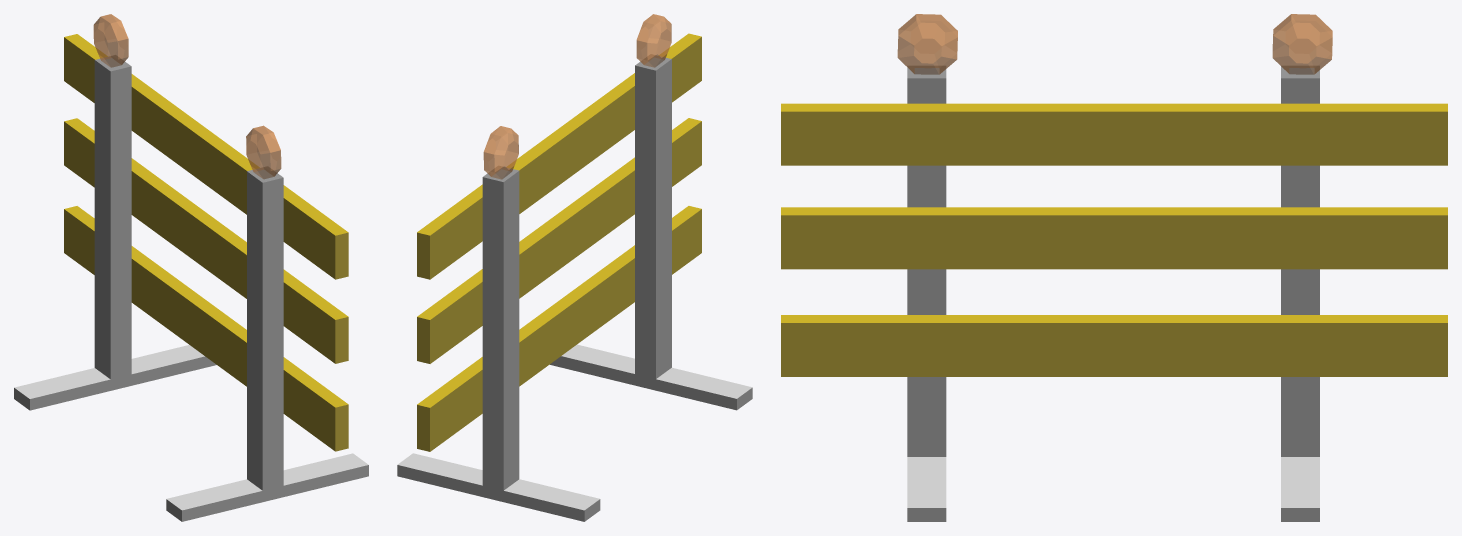
Rendered from WoodBarrierBroken.fbx.
3 renders of one model, left to right at view 1: azimuth 30°, elevation 25°; view 2: azimuth 150°, elevation 25°; view 3: azimuth 270°, elevation 25°, orthographic. The views are drawn at different scales.
Visible parts, largest first — view 1: Circle.005, Circle.010, Circle.009, Circle.007, Circle.008, Circle.002, Circle.003, Circle.004, Circle.006, Circle.011; view 2: Circle.005, Circle.010, Circle.002, Circle.003, Circle.004, Circle.009, Circle.007, Circle.008, Circle.011, Circle.006; view 3: Circle.009, Circle.008, Circle.007, Circle.002, Circle.003, Circle.004, Circle.010, Circle.005, Circle.011, Circle.006.
Boxes of the visible parts, <box> form: Circle.005: <box>14,55,216,410</box>; Circle.010: <box>166,166,368,521</box>; Circle.009: <box>187,307,348,451</box>; Circle.007: <box>192,140,348,279</box>; Circle.008: <box>193,223,348,363</box>; Circle.002: <box>64,34,222,187</box>; Circle.003: <box>64,118,219,269</box>; Circle.004: <box>64,206,215,354</box>; Circle.006: <box>93,14,128,67</box>; Circle.011: <box>246,125,281,179</box>; Circle.005: <box>397,166,600,521</box>; Circle.010: <box>550,54,752,410</box>; Circle.002: <box>417,125,575,279</box>; Circle.003: <box>417,212,572,363</box>; Circle.004: <box>417,302,570,451</box>; Circle.009: <box>553,206,701,350</box>; Circle.007: <box>559,33,701,172</box>; Circle.008: <box>559,118,701,259</box>; Circle.011: <box>636,14,671,67</box>; Circle.006: <box>483,126,518,179</box>; Circle.009: <box>781,315,1145,376</box>; Circle.008: <box>781,207,1134,269</box>; Circle.007: <box>781,103,1140,165</box>; Circle.002: <box>1089,103,1447,165</box>; Circle.003: <box>1095,207,1447,269</box>; Circle.004: <box>1104,315,1447,376</box>; Circle.010: <box>907,66,946,521</box>; Circle.005: <box>1281,66,1319,521</box>; Circle.011: <box>897,14,957,74</box>; Circle.006: <box>1272,14,1332,74</box>.
Bounding box in the file's own units: 178 × 331 × 447.
